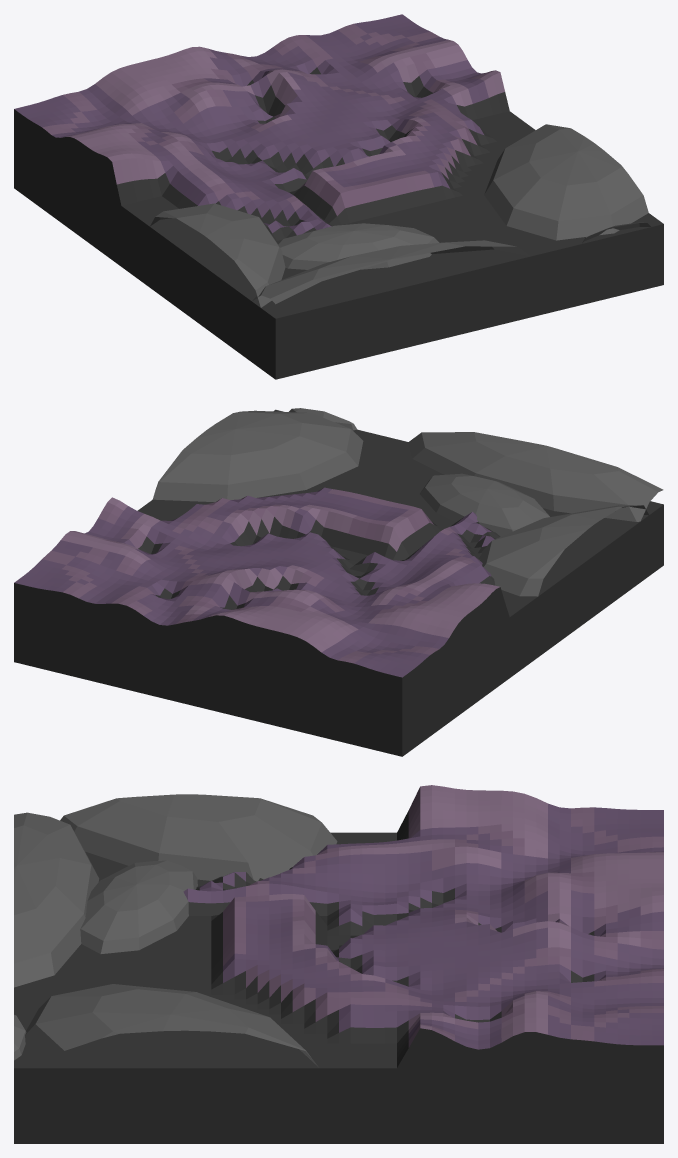
3 renders of one model, top to bottom at view 1: azimuth 30°, elevation 25°; view 2: azimuth 150°, elevation 25°; view 3: azimuth 270°, elevation 25°, orthographic. The views are drawn at different scales.
Visible parts, largest first — view 1: shapesz-t176; view 2: shapesz-t176; view 3: shapesz-t176.
Boxes of the visible parts, box(x1,y1,x2,y2) form: shapesz-t176: box(14, 14, 663, 379); shapesz-t176: box(14, 408, 663, 756); shapesz-t176: box(14, 785, 663, 1143).
Size of the model in its own units: 2 by 0.4887 by 2.33.
